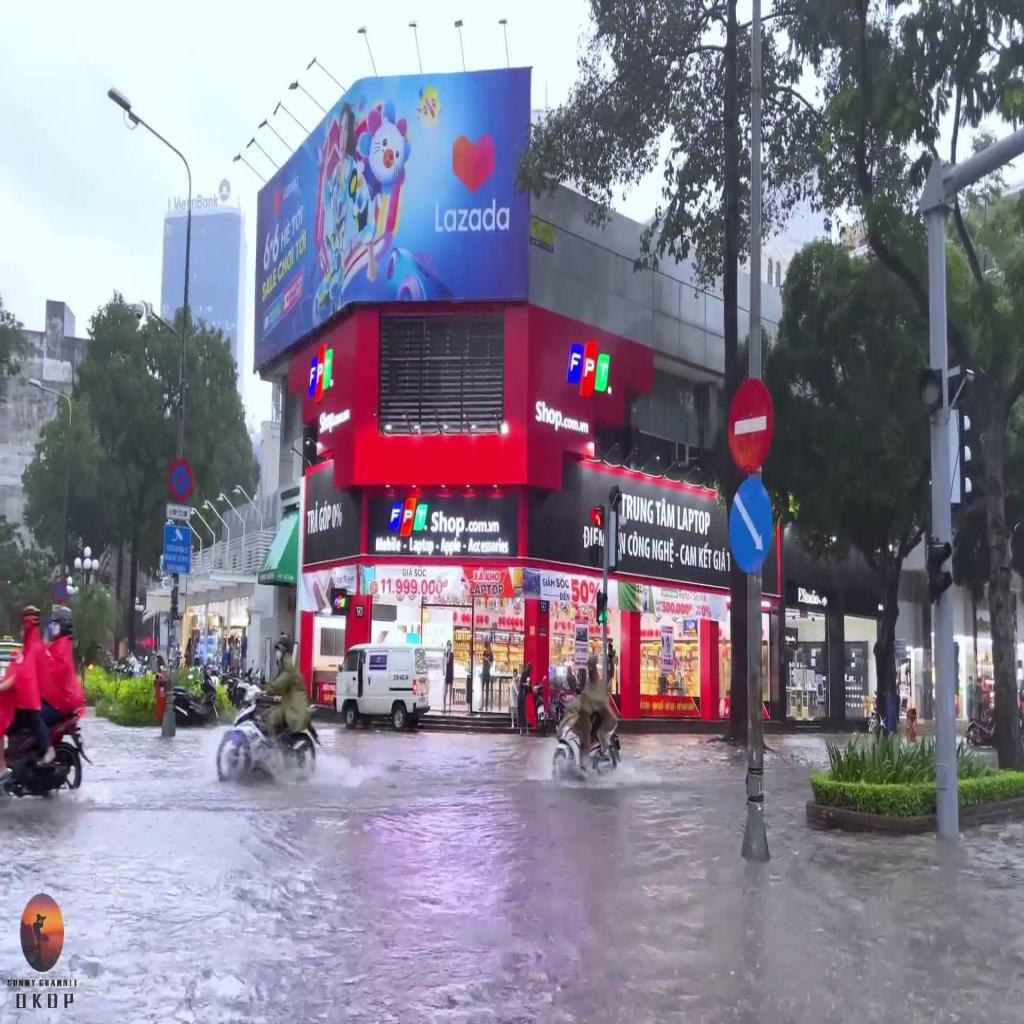cam_dung_xe_va_do_xe: (168, 460, 192, 502)
cam_xe_di_nguoc_chieu: (728, 379, 774, 472)
huong_phai_di_vuot_chuong_ngai_vat_phai: (730, 478, 772, 567)
khac: (164, 526, 191, 575), (166, 504, 190, 520)
